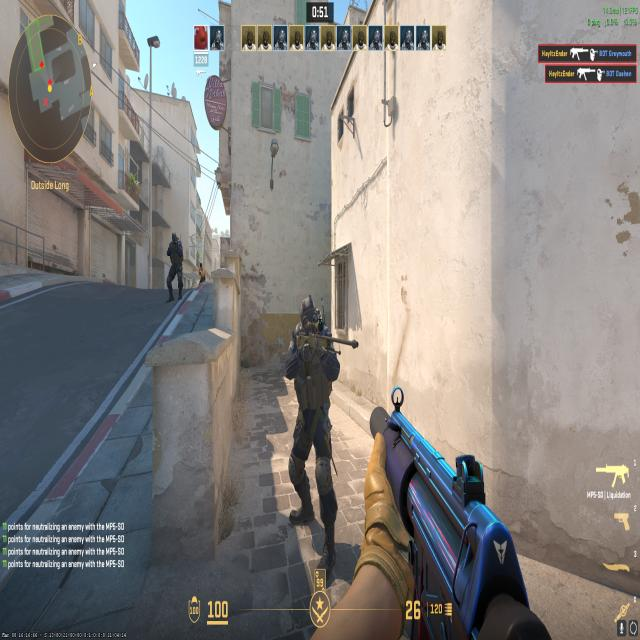ct: (268, 277, 354, 573), (160, 221, 185, 305)
t: (194, 257, 206, 288)
